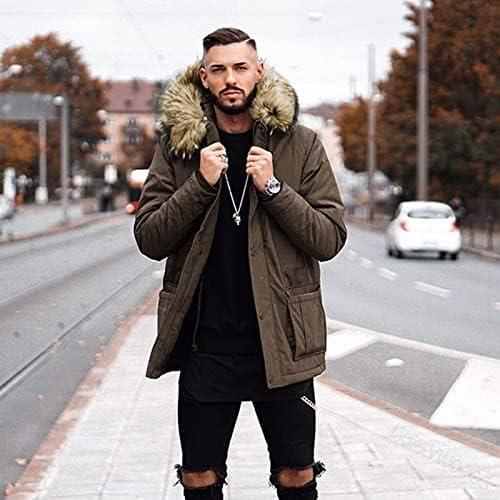coat: (131, 50, 349, 390)
trousers: (174, 357, 328, 500)
